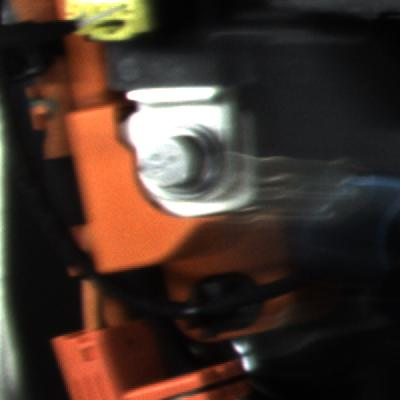nut_b: (134, 129, 240, 197)
